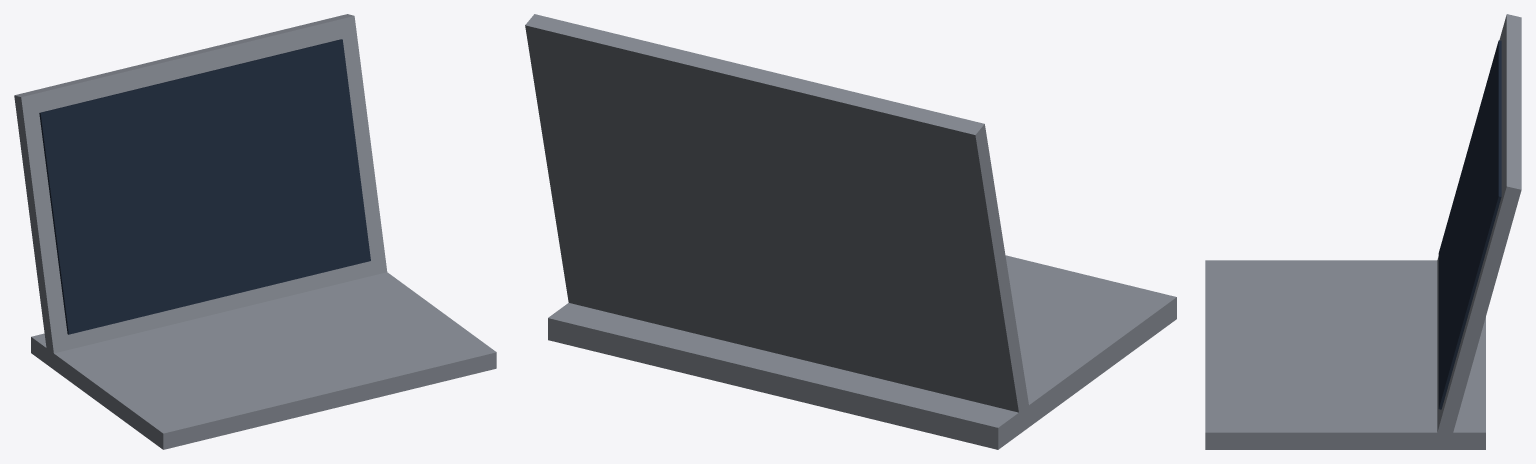
The model's file is laptop.glb.
3 renders of one model, left to right at view 1: azimuth 30°, elevation 25°; view 2: azimuth 150°, elevation 25°; view 3: azimuth 270°, elevation 25°, orthographic. The views are drawn at different scales.
Visible parts, largest first — view 1: box (×3); view 2: box (×2); view 3: box (×3).
Part boxes in pixels (x1,y1,x2,y2): box (×3): (14, 14, 496, 449); box (×2): (525, 14, 1176, 449); box (×3): (1205, 14, 1521, 449).
Size of the model in its own units: 0.32 by 0.2281 by 0.248.
